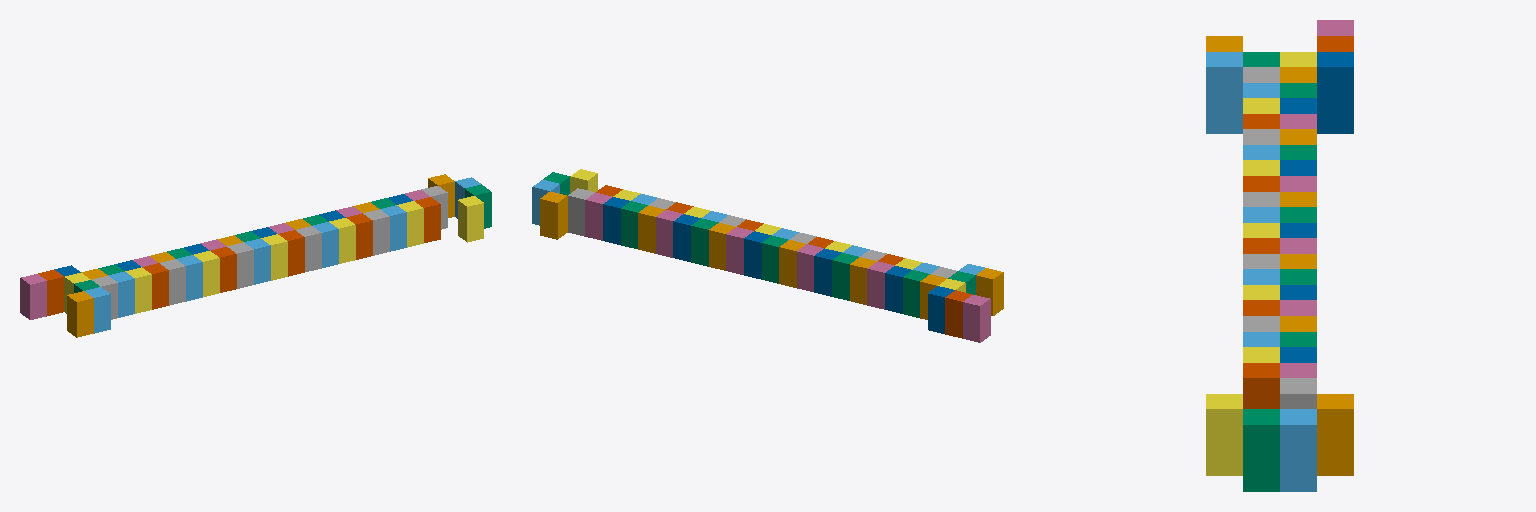
--- Render facts (derived) ---
3 views of the same robot in one strip: view 1: azimuth 30°, elevation 25°; view 2: azimuth 150°, elevation 25°; view 3: azimuth 270°, elevation 25° (orthographic).
Model wrench with 52 links and 51 joints (51 fixed), rooted at box0, posed all joints at 0.
Visible links, largest first — view 1: box0, box6, box51, box13, box23, box27, box43, box1, box5, box9, box17, box37 (+13 smaller); view 2: box6, box48, box0, box14, box28, box34, box20, box5, box24, box18, box30, box40 (+15 smaller); view 3: box49, box50, box1, box4, box48, box51, box45, box47, box0, box5, box6, box7 (+28 smaller).
Boxes of the visible links, x1,y1,x2,y2 form: box0: (67,291,93,337); box6: (20,274,46,319); box51: (458,196,483,242); box13: (142,263,168,309); box23: (227,242,253,288); box27: (261,234,287,280); box43: (397,201,423,247); box1: (85,287,110,333); box5: (38,269,63,315); box9: (108,272,134,317); box17: (177,255,202,301); box37: (346,213,372,259); box6: (963,295,990,342); box48: (540,191,567,239); box0: (976,268,1003,315); box14: (867,261,894,309); box28: (744,231,771,279); box34: (691,218,718,266); box20: (814,248,841,296); box5: (945,290,972,338); box24: (779,240,805,287); box18: (832,253,858,300); box30: (726,227,753,274); box40: (638,205,665,253); box49: (1280,409,1316,491); box50: (1243,409,1279,491); box1: (1206,52,1242,133); box4: (1317,52,1353,133); box48: (1317,394,1353,475); box51: (1206,394,1242,475); box45: (1243,363,1279,408); box47: (1280,378,1316,408); box0: (1206,36,1242,51); box5: (1317,36,1353,51); box6: (1317,20,1353,35); box7: (1243,67,1279,82).
Size in the robot's own frame: 26 by 4 by 2 metres.
Geometry: primitives only (box / cylinder / sphere), no mesh files.

robot.urdf — wrench:
<robot name = "wrench">
	<link name = "box0">
		<visual>
			<origin xyz="1.0 0.0 0.0"/>
			<geometry>
				<box size = "1 1 2"/>
			</geometry>
		</visual>
		<collision>
			<origin xyz="1.0 0.0 0.0"/>
			<geometry>
				<box size = "1 1 2"/>
			</geometry>
		</collision>
		<contact>
			<lateral_friction value = "0.3"/>
		</contact>
		<inertial>
			<mass value = "0.005769230769230769"/>
			<inertia ixx="0.0024038461538461535" ixy="0.0" ixz="0.0" iyy="0.0024038461538461535" iyz="0.0" izz="0.0009615384615384615"/>
			<origin xyz="1.0 0.0 0.0"/>
		</inertial>
	</link>
	<link name = "box1">
		<visual>
			<origin xyz="2.0 0.0 0.0"/>
			<geometry>
				<box size = "1 1 2"/>
			</geometry>
		</visual>
		<collision>
			<origin xyz="2.0 0.0 0.0"/>
			<geometry>
				<box size = "1 1 2"/>
			</geometry>
		</collision>
		<contact>
			<lateral_friction value = "0.3"/>
		</contact>
		<inertial>
			<mass value = "0.005769230769230769"/>
			<inertia ixx="0.0024038461538461535" ixy="0.0" ixz="0.0" iyy="0.0024038461538461535" iyz="0.0" izz="0.0009615384615384615"/>
			<origin xyz="2.0 0.0 0.0"/>
		</inertial>
	</link>
	<joint name = "joint1" type = "fixed">
		<parent link = "box0"/>
		<child link = "box1"/>
	</joint>
	<link name = "box2">
		<visual>
			<origin xyz="2.0 1.0 0.0"/>
			<geometry>
				<box size = "1 1 2"/>
			</geometry>
		</visual>
		<collision>
			<origin xyz="2.0 1.0 0.0"/>
			<geometry>
				<box size = "1 1 2"/>
			</geometry>
		</collision>
		<contact>
			<lateral_friction value = "0.3"/>
		</contact>
		<inertial>
			<mass value = "0.005769230769230769"/>
			<inertia ixx="0.0024038461538461535" ixy="0.0" ixz="0.0" iyy="0.0024038461538461535" iyz="0.0" izz="0.0009615384615384615"/>
			<origin xyz="2.0 1.0 0.0"/>
		</inertial>
	</link>
	<joint name = "joint2" type = "fixed">
		<parent link = "box0"/>
		<child link = "box2"/>
	</joint>
	<link name = "box3">
		<visual>
			<origin xyz="2.0 2.0 0.0"/>
			<geometry>
				<box size = "1 1 2"/>
			</geometry>
		</visual>
		<collision>
			<origin xyz="2.0 2.0 0.0"/>
			<geometry>
				<box size = "1 1 2"/>
			</geometry>
		</collision>
		<contact>
			<lateral_friction value = "0.3"/>
		</contact>
		<inertial>
			<mass value = "0.005769230769230769"/>
			<inertia ixx="0.0024038461538461535" ixy="0.0" ixz="0.0" iyy="0.0024038461538461535" iyz="0.0" izz="0.0009615384615384615"/>
			<origin xyz="2.0 2.0 0.0"/>
		</inertial>
	</link>
	<joint name = "joint3" type = "fixed">
		<parent link = "box0"/>
		<child link = "box3"/>
	</joint>
	<link name = "box4">
		<visual>
			<origin xyz="2.0 3.0 0.0"/>
			<geometry>
				<box size = "1 1 2"/>
			</geometry>
		</visual>
		<collision>
			<origin xyz="2.0 3.0 0.0"/>
			<geometry>
				<box size = "1 1 2"/>
			</geometry>
		</collision>
		<contact>
			<lateral_friction value = "0.3"/>
		</contact>
		<inertial>
			<mass value = "0.005769230769230769"/>
			<inertia ixx="0.0024038461538461535" ixy="0.0" ixz="0.0" iyy="0.0024038461538461535" iyz="0.0" izz="0.0009615384615384615"/>
			<origin xyz="2.0 3.0 0.0"/>
		</inertial>
	</link>
	<joint name = "joint4" type = "fixed">
		<parent link = "box0"/>
		<child link = "box4"/>
	</joint>
	<link name = "box5">
		<visual>
			<origin xyz="1.0 3.0 0.0"/>
			<geometry>
				<box size = "1 1 2"/>
			</geometry>
		</visual>
		<collision>
			<origin xyz="1.0 3.0 0.0"/>
			<geometry>
				<box size = "1 1 2"/>
			</geometry>
		</collision>
		<contact>
			<lateral_friction value = "0.3"/>
		</contact>
		<inertial>
			<mass value = "0.005769230769230769"/>
			<inertia ixx="0.0024038461538461535" ixy="0.0" ixz="0.0" iyy="0.0024038461538461535" iyz="0.0" izz="0.0009615384615384615"/>
			<origin xyz="1.0 3.0 0.0"/>
		</inertial>
	</link>
	<joint name = "joint5" type = "fixed">
		<parent link = "box0"/>
		<child link = "box5"/>
	</joint>
	<link name = "box6">
		<visual>
			<origin xyz="0.0 3.0 0.0"/>
			<geometry>
				<box size = "1 1 2"/>
			</geometry>
		</visual>
		<collision>
			<origin xyz="0.0 3.0 0.0"/>
			<geometry>
				<box size = "1 1 2"/>
			</geometry>
		</collision>
		<contact>
			<lateral_friction value = "0.3"/>
		</contact>
		<inertial>
			<mass value = "0.005769230769230769"/>
			<inertia ixx="0.0024038461538461535" ixy="0.0" ixz="0.0" iyy="0.0024038461538461535" iyz="0.0" izz="0.0009615384615384615"/>
			<origin xyz="0.0 3.0 0.0"/>
		</inertial>
	</link>
	<joint name = "joint6" type = "fixed">
		<parent link = "box0"/>
		<child link = "box6"/>
	</joint>
	<link name = "box7">
		<visual>
			<origin xyz="3.0 1.0 0.0"/>
			<geometry>
				<box size = "1 1 2"/>
			</geometry>
		</visual>
		<collision>
			<origin xyz="3.0 1.0 0.0"/>
			<geometry>
				<box size = "1 1 2"/>
			</geometry>
		</collision>
		<contact>
			<lateral_friction value = "0.3"/>
		</contact>
		<inertial>
			<mass value = "0.005769230769230769"/>
			<inertia ixx="0.0024038461538461535" ixy="0.0" ixz="0.0" iyy="0.0024038461538461535" iyz="0.0" izz="0.0009615384615384615"/>
			<origin xyz="3.0 1.0 0.0"/>
		</inertial>
	</link>
	<joint name = "joint7" type = "fixed">
		<parent link = "box0"/>
		<child link = "box7"/>
	</joint>
	<link name = "box8">
		<visual>
			<origin xyz="3.0 2.0 0.0"/>
			<geometry>
				<box size = "1 1 2"/>
			</geometry>
		</visual>
		<collision>
			<origin xyz="3.0 2.0 0.0"/>
			<geometry>
				<box size = "1 1 2"/>
			</geometry>
		</collision>
		<contact>
			<lateral_friction value = "0.3"/>
		</contact>
		<inertial>
			<mass value = "0.005769230769230769"/>
			<inertia ixx="0.0024038461538461535" ixy="0.0" ixz="0.0" iyy="0.0024038461538461535" iyz="0.0" izz="0.0009615384615384615"/>
			<origin xyz="3.0 2.0 0.0"/>
		</inertial>
	</link>
	<joint name = "joint8" type = "fixed">
		<parent link = "box0"/>
		<child link = "box8"/>
	</joint>
	<link name = "box9">
		<visual>
			<origin xyz="4.0 1.0 0.0"/>
			<geometry>
				<box size = "1 1 2"/>
			</geometry>
		</visual>
		<collision>
			<origin xyz="4.0 1.0 0.0"/>
			<geometry>
				<box size = "1 1 2"/>
			</geometry>
		</collision>
		<contact>
			<lateral_friction value = "0.3"/>
		</contact>
		<inertial>
			<mass value = "0.005769230769230769"/>
			<inertia ixx="0.0024038461538461535" ixy="0.0" ixz="0.0" iyy="0.0024038461538461535" iyz="0.0" izz="0.0009615384615384615"/>
			<origin xyz="4.0 1.0 0.0"/>
		</inertial>
	</link>
	<joint name = "joint9" type = "fixed">
		<parent link = "box0"/>
		<child link = "box9"/>
	</joint>
	<link name = "box10">
		<visual>
			<origin xyz="4.0 2.0 0.0"/>
			<geometry>
				<box size = "1 1 2"/>
			</geometry>
		</visual>
		<collision>
			<origin xyz="4.0 2.0 0.0"/>
			<geometry>
				<box size = "1 1 2"/>
			</geometry>
		</collision>
		<contact>
			<lateral_friction value = "0.3"/>
		</contact>
		<inertial>
			<mass value = "0.005769230769230769"/>
			<inertia ixx="0.0024038461538461535" ixy="0.0" ixz="0.0" iyy="0.0024038461538461535" iyz="0.0" izz="0.0009615384615384615"/>
			<origin xyz="4.0 2.0 0.0"/>
		</inertial>
	</link>
	<joint name = "joint10" type = "fixed">
		<parent link = "box0"/>
		<child link = "box10"/>
	</joint>
	<link name = "box11">
		<visual>
			<origin xyz="5.0 1.0 0.0"/>
			<geometry>
				<box size = "1 1 2"/>
			</geometry>
		</visual>
		<collision>
			<origin xyz="5.0 1.0 0.0"/>
			<geometry>
				<box size = "1 1 2"/>
			</geometry>
		</collision>
		<contact>
			<lateral_friction value = "0.3"/>
		</contact>
		<inertial>
			<mass value = "0.005769230769230769"/>
			<inertia ixx="0.0024038461538461535" ixy="0.0" ixz="0.0" iyy="0.0024038461538461535" iyz="0.0" izz="0.0009615384615384615"/>
			<origin xyz="5.0 1.0 0.0"/>
		</inertial>
	</link>
	<joint name = "joint11" type = "fixed">
		<parent link = "box0"/>
		<child link = "box11"/>
	</joint>
	<link name = "box12">
		<visual>
			<origin xyz="5.0 2.0 0.0"/>
			<geometry>
				<box size = "1 1 2"/>
			</geometry>
		</visual>
		<collision>
			<origin xyz="5.0 2.0 0.0"/>
			<geometry>
				<box size = "1 1 2"/>
			</geometry>
		</collision>
		<contact>
			<lateral_friction value = "0.3"/>
		</contact>
		<inertial>
			<mass value = "0.005769230769230769"/>
			<inertia ixx="0.0024038461538461535" ixy="0.0" ixz="0.0" iyy="0.0024038461538461535" iyz="0.0" izz="0.0009615384615384615"/>
			<origin xyz="5.0 2.0 0.0"/>
		</inertial>
	</link>
	<joint name = "joint12" type = "fixed">
		<parent link = "box0"/>
		<child link = "box12"/>
	</joint>
	<link name = "box13">
		<visual>
			<origin xyz="6.0 1.0 0.0"/>
			<geometry>
				<box size = "1 1 2"/>
			</geometry>
		</visual>
		<collision>
			<origin xyz="6.0 1.0 0.0"/>
			<geometry>
				<box size = "1 1 2"/>
			</geometry>
		</collision>
		<contact>
			<lateral_friction value = "0.3"/>
		</contact>
		<inertial>
			<mass value = "0.005769230769230769"/>
			<inertia ixx="0.0024038461538461535" ixy="0.0" ixz="0.0" iyy="0.0024038461538461535" iyz="0.0" izz="0.0009615384615384615"/>
			<origin xyz="6.0 1.0 0.0"/>
		</inertial>
	</link>
	<joint name = "joint13" type = "fixed">
		<parent link = "box0"/>
		<child link = "box13"/>
	</joint>
	<link name = "box14">
		<visual>
			<origin xyz="6.0 2.0 0.0"/>
			<geometry>
				<box size = "1 1 2"/>
			</geometry>
		</visual>
		<collision>
			<origin xyz="6.0 2.0 0.0"/>
			<geometry>
				<box size = "1 1 2"/>
			</geometry>
		</collision>
		<contact>
			<lateral_friction value = "0.3"/>
		</contact>
		<inertial>
			<mass value = "0.005769230769230769"/>
			<inertia ixx="0.0024038461538461535" ixy="0.0" ixz="0.0" iyy="0.0024038461538461535" iyz="0.0" izz="0.0009615384615384615"/>
			<origin xyz="6.0 2.0 0.0"/>
		</inertial>
	</link>
	<joint name = "joint14" type = "fixed">
		<parent link = "box0"/>
		<child link = "box14"/>
	</joint>
	<link name = "box15">
		<visual>
			<origin xyz="7.0 1.0 0.0"/>
			<geometry>
				<box size = "1 1 2"/>
			</geometry>
		</visual>
		<collision>
			<origin xyz="7.0 1.0 0.0"/>
			<geometry>
				<box size = "1 1 2"/>
			</geometry>
		</collision>
		<contact>
			<lateral_friction value = "0.3"/>
		</contact>
		<inertial>
			<mass value = "0.005769230769230769"/>
			<inertia ixx="0.0024038461538461535" ixy="0.0" ixz="0.0" iyy="0.0024038461538461535" iyz="0.0" izz="0.0009615384615384615"/>
			<origin xyz="7.0 1.0 0.0"/>
		</inertial>
	</link>
	<joint name = "joint15" type = "fixed">
		<parent link = "box0"/>
		<child link = "box15"/>
	</joint>
	<link name = "box16">
		<visual>
			<origin xyz="7.0 2.0 0.0"/>
			<geometry>
				<box size = "1 1 2"/>
			</geometry>
		</visual>
		<collision>
			<origin xyz="7.0 2.0 0.0"/>
			<geometry>
				<box size = "1 1 2"/>
			</geometry>
		</collision>
		<contact>
			<lateral_friction value = "0.3"/>
		</contact>
		<inertial>
			<mass value = "0.005769230769230769"/>
			<inertia ixx="0.0024038461538461535" ixy="0.0" ixz="0.0" iyy="0.0024038461538461535" iyz="0.0" izz="0.0009615384615384615"/>
			<origin xyz="7.0 2.0 0.0"/>
		</inertial>
	</link>
	<joint name = "joint16" type = "fixed">
		<parent link = "box0"/>
		<child link = "box16"/>
	</joint>
	<link name = "box17">
		<visual>
			<origin xyz="8.0 1.0 0.0"/>
			<geometry>
				<box size = "1 1 2"/>
			</geometry>
		</visual>
		<collision>
			<origin xyz="8.0 1.0 0.0"/>
			<geometry>
				<box size = "1 1 2"/>
			</geometry>
		</collision>
		<contact>
			<lateral_friction value = "0.3"/>
		</contact>
		<inertial>
			<mass value = "0.005769230769230769"/>
			<inertia ixx="0.0024038461538461535" ixy="0.0" ixz="0.0" iyy="0.0024038461538461535" iyz="0.0" izz="0.0009615384615384615"/>
			<origin xyz="8.0 1.0 0.0"/>
		</inertial>
	</link>
	<joint name = "joint17" type = "fixed">
		<parent link = "box0"/>
		<child link = "box17"/>
	</joint>
	<link name = "box18">
		<visual>
			<origin xyz="8.0 2.0 0.0"/>
			<geometry>
				<box size = "1 1 2"/>
			</geometry>
		</visual>
		<collision>
			<origin xyz="8.0 2.0 0.0"/>
			<geometry>
				<box size = "1 1 2"/>
			</geometry>
		</collision>
		<contact>
			<lateral_friction value = "0.3"/>
		</contact>
		<inertial>
			<mass value = "0.005769230769230769"/>
			<inertia ixx="0.0024038461538461535" ixy="0.0" ixz="0.0" iyy="0.0024038461538461535" iyz="0.0" izz="0.0009615384615384615"/>
			<origin xyz="8.0 2.0 0.0"/>
		</inertial>
	</link>
	<joint name = "joint18" type = "fixed">
		<parent link = "box0"/>
		<child link = "box18"/>
	</joint>
	<link name = "box19">
		<visual>
			<origin xyz="9.0 1.0 0.0"/>
			<geometry>
				<box size = "1 1 2"/>
			</geometry>
		</visual>
		<collision>
			<origin xyz="9.0 1.0 0.0"/>
			<geometry>
				<box size = "1 1 2"/>
			</geometry>
		</collision>
		<contact>
			<lateral_friction value = "0.3"/>
		</contact>
		<inertial>
			<mass value = "0.005769230769230769"/>
			<inertia ixx="0.0024038461538461535" ixy="0.0" ixz="0.0" iyy="0.0024038461538461535" iyz="0.0" izz="0.0009615384615384615"/>
			<origin xyz="9.0 1.0 0.0"/>
		</inertial>
	</link>
	<joint name = "joint19" type = "fixed">
		<parent link = "box0"/>
		<child link = "box19"/>
	</joint>
	<link name = "box20">
		<visual>
			<origin xyz="9.0 2.0 0.0"/>
			<geometry>
				<box size = "1 1 2"/>
			</geometry>
		</visual>
		<collision>
			<origin xyz="9.0 2.0 0.0"/>
			<geometry>
				<box size = "1 1 2"/>
			</geometry>
		</collision>
		<contact>
			<lateral_friction value = "0.3"/>
		</contact>
		<inertial>
			<mass value = "0.005769230769230769"/>
			<inertia ixx="0.0024038461538461535" ixy="0.0" ixz="0.0" iyy="0.0024038461538461535" iyz="0.0" izz="0.0009615384615384615"/>
			<origin xyz="9.0 2.0 0.0"/>
		</inertial>
	</link>
	<joint name = "joint20" type = "fixed">
		<parent link = "box0"/>
		<child link = "box20"/>
	</joint>
	<link name = "box21">
		<visual>
			<origin xyz="10.0 1.0 0.0"/>
			<geometry>
				<box size = "1 1 2"/>
			</geometry>
		</visual>
		<collision>
			<origin xyz="10.0 1.0 0.0"/>
			<geometry>
				<box size = "1 1 2"/>
			</geometry>
		</collision>
		<contact>
			<lateral_friction value = "0.3"/>
		</contact>
		<inertial>
			<mass value = "0.005769230769230769"/>
			<inertia ixx="0.0024038461538461535" ixy="0.0" ixz="0.0" iyy="0.0024038461538461535" iyz="0.0" izz="0.0009615384615384615"/>
			<origin xyz="10.0 1.0 0.0"/>
		</inertial>
	</link>
	<joint name = "joint21" type = "fixed">
		<parent link = "box0"/>
		<child link = "box21"/>
	</joint>
	<link name = "box22">
		<visual>
			<origin xyz="10.0 2.0 0.0"/>
			<geometry>
				<box size = "1 1 2"/>
			</geometry>
		</visual>
		<collision>
			<origin xyz="10.0 2.0 0.0"/>
			<geometry>
				<box size = "1 1 2"/>
			</geometry>
		</collision>
		<contact>
			<lateral_friction value = "0.3"/>
		</contact>
		<inertial>
			<mass value = "0.005769230769230769"/>
			<inertia ixx="0.0024038461538461535" ixy="0.0" ixz="0.0" iyy="0.0024038461538461535" iyz="0.0" izz="0.0009615384615384615"/>
			<origin xyz="10.0 2.0 0.0"/>
		</inertial>
	</link>
	<joint name = "joint22" type = "fixed">
		<parent link = "box0"/>
		<child link = "box22"/>
	</joint>
	<link name = "box23">
		<visual>
			<origin xyz="11.0 1.0 0.0"/>
			<geometry>
				<box size = "1 1 2"/>
			</geometry>
		</visual>
		<collision>
			<origin xyz="11.0 1.0 0.0"/>
			<geometry>
				<box size = "1 1 2"/>
			</geometry>
		</collision>
		<contact>
			<lateral_friction value = "0.3"/>
		</contact>
		<inertial>
			<mass value = "0.005769230769230769"/>
			<inertia ixx="0.0024038461538461535" ixy="0.0" ixz="0.0" iyy="0.0024038461538461535" iyz="0.0" izz="0.0009615384615384615"/>
			<origin xyz="11.0 1.0 0.0"/>
		</inertial>
	</link>
	<joint name = "joint23" type = "fixed">
		<parent link = "box0"/>
		<child link = "box23"/>
	</joint>
	<link name = "box24">
		<visual>
			<origin xyz="11.0 2.0 0.0"/>
			<geometry>
				<box size = "1 1 2"/>
			</geometry>
		</visual>
		<collision>
			<origin xyz="11.0 2.0 0.0"/>
			<geometry>
				<box size = "1 1 2"/>
			</geometry>
		</collision>
		<contact>
			<lateral_friction value = "0.3"/>
		</contact>
		<inertial>
			<mass value = "0.005769230769230769"/>
			<inertia ixx="0.0024038461538461535" ixy="0.0" ixz="0.0" iyy="0.0024038461538461535" iyz="0.0" izz="0.0009615384615384615"/>
			<origin xyz="11.0 2.0 0.0"/>
		</inertial>
	</link>
	<joint name = "joint24" type = "fixed">
		<parent link = "box0"/>
		<child link = "box24"/>
	</joint>
	<link name = "box25">
		<visual>
			<origin xyz="12.0 1.0 0.0"/>
			<geometry>
				<box size = "1 1 2"/>
			</geometry>
		</visual>
		<collision>
			<origin xyz="12.0 1.0 0.0"/>
			<geometry>
				<box size = "1 1 2"/>
			</geometry>
		</collision>
		<contact>
			<lateral_friction value = "0.3"/>
		</contact>
		<inertial>
			<mass value = "0.005769230769230769"/>
			<inertia ixx="0.0024038461538461535" ixy="0.0" ixz="0.0" iyy="0.0024038461538461535" iyz="0.0" izz="0.0009615384615384615"/>
			<origin xyz="12.0 1.0 0.0"/>
		</inertial>
	</link>
	<joint name = "joint25" type = "fixed">
		<parent link = "box0"/>
		<child link = "box25"/>
	</joint>
	<link name = "box26">
		<visual>
			<origin xyz="12.0 2.0 0.0"/>
			<geometry>
				<box size = "1 1 2"/>
			</geometry>
		</visual>
		<collision>
			<origin xyz="12.0 2.0 0.0"/>
			<geometry>
				<box size = "1 1 2"/>
			</geometry>
		</collision>
		<contact>
			<lateral_friction value = "0.3"/>
		</contact>
		<inertial>
			<mass value = "0.005769230769230769"/>
			<inertia ixx="0.0024038461538461535" ixy="0.0" ixz="0.0" iyy="0.0024038461538461535" iyz="0.0" izz="0.0009615384615384615"/>
			<origin xyz="12.0 2.0 0.0"/>
		</inertial>
	</link>
	<joint name = "joint26" type = "fixed">
		<parent link = "box0"/>
		<child link = "box26"/>
	</joint>
	<link name = "box27">
		<visual>
			<origin xyz="13.0 1.0 0.0"/>
			<geometry>
				<box size = "1 1 2"/>
			</geometry>
		</visual>
		<collision>
			<origin xyz="13.0 1.0 0.0"/>
			<geometry>
				<box size = "1 1 2"/>
			</geometry>
		</collision>
		<contact>
			<lateral_friction value = "0.3"/>
		</contact>
		<inertial>
			<mass value = "0.005769230769230769"/>
			<inertia ixx="0.0024038461538461535" ixy="0.0" ixz="0.0" iyy="0.0024038461538461535" iyz="0.0" izz="0.0009615384615384615"/>
			<origin xyz="13.0 1.0 0.0"/>
		</inertial>
	</link>
	<joint name = "joint27" type = "fixed">
		<parent link = "box0"/>
		<child link = "box27"/>
	</joint>
	<link name = "box28">
		<visual>
			<origin xyz="13.0 2.0 0.0"/>
			<geometry>
				<box size = "1 1 2"/>
			</geometry>
		</visual>
		<collision>
			<origin xyz="13.0 2.0 0.0"/>
			<geometry>
				<box size = "1 1 2"/>
			</geometry>
		</collision>
		<contact>
			<lateral_friction value = "0.3"/>
		</contact>
		<inertial>
			<mass value = "0.005769230769230769"/>
			<inertia ixx="0.0024038461538461535" ixy="0.0" ixz="0.0" iyy="0.0024038461538461535" iyz="0.0" izz="0.0009615384615384615"/>
			<origin xyz="13.0 2.0 0.0"/>
		</inertial>
	</link>
	<joint name = "joint28" type = "fixed">
		<parent link = "box0"/>
		<child link = "box28"/>
	</joint>
	<link name = "box29">
		<visual>
			<origin xyz="14.0 1.0 0.0"/>
			<geometry>
				<box size = "1 1 2"/>
			</geometry>
		</visual>
		<collision>
			<origin xyz="14.0 1.0 0.0"/>
			<geometry>
				<box size = "1 1 2"/>
			</geometry>
		</collision>
		<contact>
			<lateral_friction value = "0.3"/>
		</contact>
		<inertial>
			<mass value = "0.005769230769230769"/>
			<inertia ixx="0.0024038461538461535" ixy="0.0" ixz="0.0" iyy="0.0024038461538461535" iyz="0.0" izz="0.0009615384615384615"/>
			<origin xyz="14.0 1.0 0.0"/>
		</inertial>
	</link>
	<joint name = "joint29" type = "fixed">
		<parent link = "box0"/>
		<child link = "box29"/>
	</joint>
	<link name = "box30">
		<visual>
			<origin xyz="14.0 2.0 0.0"/>
			<geometry>
				<box size = "1 1 2"/>
			</geometry>
		</visual>
		<collision>
			<origin xyz="14.0 2.0 0.0"/>
			<geometry>
				<box size = "1 1 2"/>
			</geometry>
		</collision>
		<contact>
			<lateral_friction value = "0.4"/>
		</contact>
		<inertial>
			<mass value = "0.007692307692307693"/>
			<inertia ixx="0.0032051282051282055" ixy="0.0" ixz="0.0" iyy="0.0032051282051282055" iyz="0.0" izz="0.001282051282051282"/>
			<origin xyz="14.0 2.0 0.0"/>
		</inertial>
	</link>
	<joint name = "joint30" type = "fixed">
		<parent link = "box0"/>
		<child link = "box30"/>
	</joint>
	<link name = "box31">
		<visual>
			<origin xyz="15.0 1.0 0.0"/>
			<geometry>
				<box size = "1 1 2"/>
			</geometry>
		</visual>
		<collision>
			<origin xyz="15.0 1.0 0.0"/>
			<geometry>
				<box size = "1 1 2"/>
			</geometry>
		</collision>
		<contact>
			<lateral_friction value = "0.4"/>
		</contact>
		<inertial>
			<mass value = "0.007692307692307693"/>
			<inertia ixx="0.0032051282051282055" ixy="0.0" ixz="0.0" iyy="0.0032051282051282055" iyz="0.0" izz="0.001282051282051282"/>
			<origin xyz="15.0 1.0 0.0"/>
		</inertial>
	</link>
	<joint name = "joint31" type = "fixed">
		<parent link = "box0"/>
		<child link = "box31"/>
	</joint>
	<link name = "box32">
		<visual>
			<origin xyz="15.0 2.0 0.0"/>
			<geometry>
				<box size = "1 1 2"/>
			</geometry>
		</visual>
		<collision>
			<origin xyz="15.0 2.0 0.0"/>
			<geometry>
				<box size = "1 1 2"/>
			</geometry>
		</collision>
		<contact>
			<lateral_friction value = "0.4"/>
		</contact>
		<inertial>
			<mass value = "0.007692307692307693"/>
			<inertia ixx="0.0032051282051282055" ixy="0.0" ixz="0.0" iyy="0.0032051282051282055" iyz="0.0" izz="0.001282051282051282"/>
			<origin xyz="15.0 2.0 0.0"/>
		</inertial>
	</link>
	<joint name = "joint32" type = "fixed">
		<parent link = "box0"/>
		<child link = "box32"/>
	</joint>
	<link name = "box33">
		<visual>
			<origin xyz="16.0 1.0 0.0"/>
			<geometry>
				<box size = "1 1 2"/>
			</geometry>
		</visual>
		<collision>
			<origin xyz="16.0 1.0 0.0"/>
			<geometry>
				<box size = "1 1 2"/>
			</geometry>
		</collision>
		<contact>
			<lateral_friction value = "0.4"/>
		</contact>
		<inertial>
			<mass value = "0.007692307692307693"/>
			<inertia ixx="0.0032051282051282055" ixy="0.0" ixz="0.0" iyy="0.0032051282051282055" iyz="0.0" izz="0.001282051282051282"/>
			<origin xyz="16.0 1.0 0.0"/>
		</inertial>
	</link>
	<joint name = "joint33" type = "fixed">
		<parent link = "box0"/>
		<child link = "box33"/>
	</joint>
	<link name = "box34">
		<visual>
			<origin xyz="16.0 2.0 0.0"/>
			<geometry>
				<box size = "1 1 2"/>
			</geometry>
		</visual>
		<collision>
			<origin xyz="16.0 2.0 0.0"/>
			<geometry>
				<box size = "1 1 2"/>
			</geometry>
		</collision>
		<contact>
			<lateral_friction value = "0.4"/>
		</contact>
		<inertial>
			<mass value = "0.007692307692307693"/>
			<inertia ixx="0.0032051282051282055" ixy="0.0" ixz="0.0" iyy="0.0032051282051282055" iyz="0.0" izz="0.001282051282051282"/>
			<origin xyz="16.0 2.0 0.0"/>
		</inertial>
	</link>
	<joint name = "joint34" type = "fixed">
		<parent link = "box0"/>
		<child link = "box34"/>
	</joint>
	<link name = "box35">
		<visual>
			<origin xyz="17.0 1.0 0.0"/>
			<geometry>
				<box size = "1 1 2"/>
			</geometry>
		</visual>
		<collision>
			<origin xyz="17.0 1.0 0.0"/>
			<geometry>
				<box size = "1 1 2"/>
			</geometry>
		</collision>
		<contact>
			<lateral_friction value = "0.4"/>
		</contact>
		<inertial>
			<mass value = "0.007692307692307693"/>
			<inertia ixx="0.0032051282051282055" ixy="0.0" ixz="0.0" iyy="0.0032051282051282055" iyz="0.0" izz="0.001282051282051282"/>
			<origin xyz="17.0 1.0 0.0"/>
		</inertial>
	</link>
	<joint name = "joint35" type = "fixed">
		<parent link = "box0"/>
		<child link = "box35"/>
	</joint>
	<link name = "box36">
		<visual>
			<origin xyz="17.0 2.0 0.0"/>
			<geometry>
				<box size = "1 1 2"/>
			</geometry>
		</visual>
		<collision>
			<origin xyz="17.0 2.0 0.0"/>
			<geometry>
				<box size = "1 1 2"/>
			</geometry>
		</collision>
		<contact>
			<lateral_friction value = "0.4"/>
		</contact>
		<inertial>
			<mass value = "0.007692307692307693"/>
			<inertia ixx="0.0032051282051282055" ixy="0.0" ixz="0.0" iyy="0.0032051282051282055" iyz="0.0" izz="0.001282051282051282"/>
			<origin xyz="17.0 2.0 0.0"/>
		</inertial>
	</link>
	<joint name = "joint36" type = "fixed">
		<parent link = "box0"/>
		<child link = "box36"/>
	</joint>
	<link name = "box37">
		<visual>
			<origin xyz="18.0 1.0 0.0"/>
			<geometry>
				<box size = "1 1 2"/>
			</geometry>
		</visual>
		<collision>
			<origin xyz="18.0 1.0 0.0"/>
			<geometry>
				<box size = "1 1 2"/>
			</geometry>
		</collision>
		<contact>
			<lateral_friction value = "0.4"/>
		</contact>
		<inertial>
			<mass value = "0.007692307692307693"/>
			<inertia ixx="0.0032051282051282055" ixy="0.0" ixz="0.0" iyy="0.0032051282051282055" iyz="0.0" izz="0.001282051282051282"/>
			<origin xyz="18.0 1.0 0.0"/>
		</inertial>
	</link>
	<joint name = "joint37" type = "fixed">
		<parent link = "box0"/>
		<child link = "box37"/>
	</joint>
	<link name = "box38">
		<visual>
			<origin xyz="18.0 2.0 0.0"/>
			<geometry>
				<box size = "1 1 2"/>
			</geometry>
		</visual>
		<collision>
			<origin xyz="18.0 2.0 0.0"/>
			<geometry>
				<box size = "1 1 2"/>
			</geometry>
		</collision>
		<contact>
			<lateral_friction value = "0.4"/>
		</contact>
		<inertial>
			<mass value = "0.007692307692307693"/>
			<inertia ixx="0.0032051282051282055" ixy="0.0" ixz="0.0" iyy="0.0032051282051282055" iyz="0.0" izz="0.001282051282051282"/>
			<origin xyz="18.0 2.0 0.0"/>
		</inertial>
	</link>
	<joint name = "joint38" type = "fixed">
		<parent link = "box0"/>
		<child link = "box38"/>
	</joint>
	<link name = "box39">
		<visual>
			<origin xyz="19.0 1.0 0.0"/>
			<geometry>
				<box size = "1 1 2"/>
			</geometry>
		</visual>
		<collision>
			<origin xyz="19.0 1.0 0.0"/>
			<geometry>
				<box size = "1 1 2"/>
			</geometry>
		</collision>
		<contact>
			<lateral_friction value = "0.3"/>
		</contact>
		<inertial>
			<mass value = "0.005769230769230769"/>
			<inertia ixx="0.0024038461538461535" ixy="0.0" ixz="0.0" iyy="0.0024038461538461535" iyz="0.0" izz="0.0009615384615384615"/>
			<origin xyz="19.0 1.0 0.0"/>
		</inertial>
	</link>
	<joint name = "joint39" type = "fixed">
		<parent link = "box0"/>
		<child link = "box39"/>
	</joint>
	<link name = "box40">
		<visual>
			<origin xyz="19.0 2.0 0.0"/>
			<geometry>
				<box size = "1 1 2"/>
			</geometry>
		</visual>
		<collision>
			<origin xyz="19.0 2.0 0.0"/>
			<geometry>
				<box size = "1 1 2"/>
			</geometry>
		</collision>
		<contact>
			<lateral_friction value = "0.3"/>
		</contact>
		<inertial>
			<mass value = "0.005769230769230769"/>
			<inertia ixx="0.0024038461538461535" ixy="0.0" ixz="0.0" iyy="0.0024038461538461535" iyz="0.0" izz="0.0009615384615384615"/>
			<origin xyz="19.0 2.0 0.0"/>
		</inertial>
	</link>
	<joint name = "joint40" type = "fixed">
		<parent link = "box0"/>
		<child link = "box40"/>
	</joint>
	<link name = "box41">
		<visual>
			<origin xyz="20.0 1.0 0.0"/>
			<geometry>
				<box size = "1 1 2"/>
			</geometry>
		</visual>
		<collision>
			<origin xyz="20.0 1.0 0.0"/>
			<geometry>
				<box size = "1 1 2"/>
			</geometry>
		</collision>
		<contact>
			<lateral_friction value = "0.3"/>
		</contact>
		<inertial>
			<mass value = "0.005769230769230769"/>
			<inertia ixx="0.0024038461538461535" ixy="0.0" ixz="0.0" iyy="0.0024038461538461535" iyz="0.0" izz="0.0009615384615384615"/>
			<origin xyz="20.0 1.0 0.0"/>
		</inertial>
	</link>
	<joint name = "joint41" type = "fixed">
		<parent link = "box0"/>
		<child link = "box41"/>
	</joint>
	<link name = "box42">
		<visual>
			<origin xyz="20.0 2.0 0.0"/>
			<geometry>
				<box size = "1 1 2"/>
			</geometry>
		</visual>
		<collision>
			<origin xyz="20.0 2.0 0.0"/>
			<geometry>
				<box size = "1 1 2"/>
			</geometry>
		</collision>
		<contact>
			<lateral_friction value = "0.3"/>
		</contact>
		<inertial>
			<mass value = "0.005769230769230769"/>
			<inertia ixx="0.0024038461538461535" ixy="0.0" ixz="0.0" iyy="0.0024038461538461535" iyz="0.0" izz="0.0009615384615384615"/>
			<origin xyz="20.0 2.0 0.0"/>
		</inertial>
	</link>
	<joint name = "joint42" type = "fixed">
		<parent link = "box0"/>
		<child link = "box42"/>
	</joint>
	<link name = "box43">
		<visual>
			<origin xyz="21.0 1.0 0.0"/>
			<geometry>
				<box size = "1 1 2"/>
			</geometry>
		</visual>
		<collision>
			<origin xyz="21.0 1.0 0.0"/>
			<geometry>
				<box size = "1 1 2"/>
			</geometry>
		</collision>
		<contact>
			<lateral_friction value = "0.3"/>
		</contact>
		<inertial>
			<mass value = "0.005769230769230769"/>
			<inertia ixx="0.0024038461538461535" ixy="0.0" ixz="0.0" iyy="0.0024038461538461535" iyz="0.0" izz="0.0009615384615384615"/>
			<origin xyz="21.0 1.0 0.0"/>
		</inertial>
	</link>
	<joint name = "joint43" type = "fixed">
		<parent link = "box0"/>
		<child link = "box43"/>
	</joint>
	<link name = "box44">
		<visual>
			<origin xyz="21.0 2.0 0.0"/>
			<geometry>
				<box size = "1 1 2"/>
			</geometry>
		</visual>
		<collision>
			<origin xyz="21.0 2.0 0.0"/>
			<geometry>
				<box size = "1 1 2"/>
			</geometry>
		</collision>
		<contact>
			<lateral_friction value = "0.3"/>
		</contact>
		<inertial>
			<mass value = "0.005769230769230769"/>
			<inertia ixx="0.0024038461538461535" ixy="0.0" ixz="0.0" iyy="0.0024038461538461535" iyz="0.0" izz="0.0009615384615384615"/>
			<origin xyz="21.0 2.0 0.0"/>
		</inertial>
	</link>
	<joint name = "joint44" type = "fixed">
		<parent link = "box0"/>
		<child link = "box44"/>
	</joint>
	<link name = "box45">
		<visual>
			<origin xyz="22.0 1.0 0.0"/>
			<geometry>
				<box size = "1 1 2"/>
			</geometry>
		</visual>
		<collision>
			<origin xyz="22.0 1.0 0.0"/>
			<geometry>
				<box size = "1 1 2"/>
			</geometry>
		</collision>
		<contact>
			<lateral_friction value = "0.3"/>
		</contact>
		<inertial>
			<mass value = "0.005769230769230769"/>
			<inertia ixx="0.0024038461538461535" ixy="0.0" ixz="0.0" iyy="0.0024038461538461535" iyz="0.0" izz="0.0009615384615384615"/>
			<origin xyz="22.0 1.0 0.0"/>
		</inertial>
	</link>
	<joint name = "joint45" type = "fixed">
		<parent link = "box0"/>
		<child link = "box45"/>
	</joint>
	<link name = "box46">
		<visual>
			<origin xyz="22.0 2.0 0.0"/>
			<geometry>
				<box size = "1 1 2"/>
			</geometry>
		</visual>
		<collision>
			<origin xyz="22.0 2.0 0.0"/>
			<geometry>
				<box size = "1 1 2"/>
			</geometry>
		</collision>
		<contact>
			<lateral_friction value = "0.3"/>
		</contact>
		<inertial>
			<mass value = "0.005769230769230769"/>
			<inertia ixx="0.0024038461538461535" ixy="0.0" ixz="0.0" iyy="0.0024038461538461535" iyz="0.0" izz="0.0009615384615384615"/>
			<origin xyz="22.0 2.0 0.0"/>
		</inertial>
	</link>
	<joint name = "joint46" type = "fixed">
		<parent link = "box0"/>
		<child link = "box46"/>
	</joint>
	<link name = "box47">
		<visual>
			<origin xyz="23.0 2.0 0.0"/>
			<geometry>
				<box size = "1 1 2"/>
			</geometry>
		</visual>
		<collision>
			<origin xyz="23.0 2.0 0.0"/>
			<geometry>
				<box size = "1 1 2"/>
			</geometry>
		</collision>
		<contact>
			<lateral_friction value = "0.3"/>
		</contact>
		<inertial>
			<mass value = "0.005769230769230769"/>
			<inertia ixx="0.0024038461538461535" ixy="0.0" ixz="0.0" iyy="0.0024038461538461535" iyz="0.0" izz="0.0009615384615384615"/>
			<origin xyz="23.0 2.0 0.0"/>
		</inertial>
	</link>
	<joint name = "joint47" type = "fixed">
		<parent link = "box0"/>
		<child link = "box47"/>
	</joint>
	<link name = "box48">
		<visual>
			<origin xyz="24.0 3.0 0.0"/>
			<geometry>
				<box size = "1 1 2"/>
			</geometry>
		</visual>
		<collision>
			<origin xyz="24.0 3.0 0.0"/>
			<geometry>
				<box size = "1 1 2"/>
			</geometry>
		</collision>
		<contact>
			<lateral_friction value = "0.3"/>
		</contact>
		<inertial>
			<mass value = "0.005769230769230769"/>
			<inertia ixx="0.0024038461538461535" ixy="0.0" ixz="0.0" iyy="0.0024038461538461535" iyz="0.0" izz="0.0009615384615384615"/>
			<origin xyz="24.0 3.0 0.0"/>
		</inertial>
	</link>
	<joint name = "joint48" type = "fixed">
		<parent link = "box0"/>
		<child link = "box48"/>
	</joint>
	<link name = "box49">
		<visual>
			<origin xyz="25.0 2.0 0.0"/>
			<geometry>
				<box size = "1 1 2"/>
			</geometry>
		</visual>
		<collision>
			<origin xyz="25.0 2.0 0.0"/>
			<geometry>
				<box size = "1 1 2"/>
			</geometry>
		</collision>
		<contact>
			<lateral_friction value = "0.3"/>
		</contact>
		<inertial>
			<mass value = "0.005769230769230769"/>
			<inertia ixx="0.0024038461538461535" ixy="0.0" ixz="0.0" iyy="0.0024038461538461535" iyz="0.0" izz="0.0009615384615384615"/>
			<origin xyz="25.0 2.0 0.0"/>
		</inertial>
	</link>
	<joint name = "joint49" type = "fixed">
		<parent link = "box0"/>
		<child link = "box49"/>
	</joint>
	<link name = "box50">
		<visual>
			<origin xyz="25.0 1.0 0.0"/>
			<geometry>
				<box size = "1 1 2"/>
			</geometry>
		</visual>
		<collision>
			<origin xyz="25.0 1.0 0.0"/>
			<geometry>
				<box size = "1 1 2"/>
			</geometry>
		</collision>
		<contact>
			<lateral_friction value = "0.3"/>
		</contact>
		<inertial>
			<mass value = "0.005769230769230769"/>
			<inertia ixx="0.0024038461538461535" ixy="0.0" ixz="0.0" iyy="0.0024038461538461535" iyz="0.0" izz="0.0009615384615384615"/>
			<origin xyz="25.0 1.0 0.0"/>
		</inertial>
	</link>
	<joint name = "joint50" type = "fixed">
		<parent link = "box0"/>
		<child link = "box50"/>
	</joint>
	<link name = "box51">
		<visual>
			<origin xyz="24.0 0.0 0.0"/>
			<geometry>
				<box size = "1 1 2"/>
			</geometry>
		</visual>
		<collision>
			<origin xyz="24.0 0.0 0.0"/>
			<geometry>
				<box size = "1 1 2"/>
			</geometry>
		</collision>
		<contact>
			<lateral_friction value = "0.3"/>
		</contact>
		<inertial>
			<mass value = "0.005769230769230769"/>
			<inertia ixx="0.0024038461538461535" ixy="0.0" ixz="0.0" iyy="0.0024038461538461535" iyz="0.0" izz="0.0009615384615384615"/>
			<origin xyz="24.0 0.0 0.0"/>
		</inertial>
	</link>
	<joint name = "joint51" type = "fixed">
		<parent link = "box0"/>
		<child link = "box51"/>
	</joint>
</robot>
